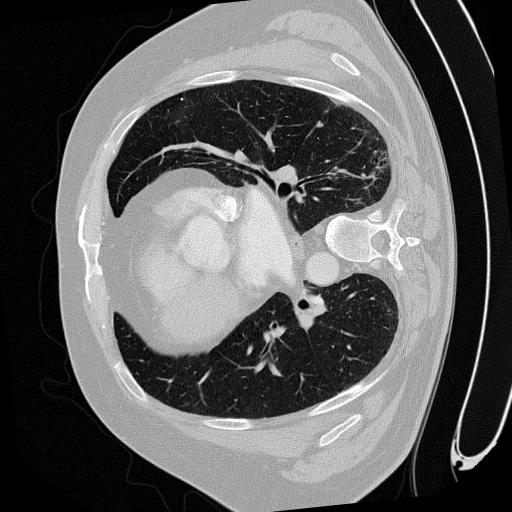nodule: (314, 117, 326, 129)
